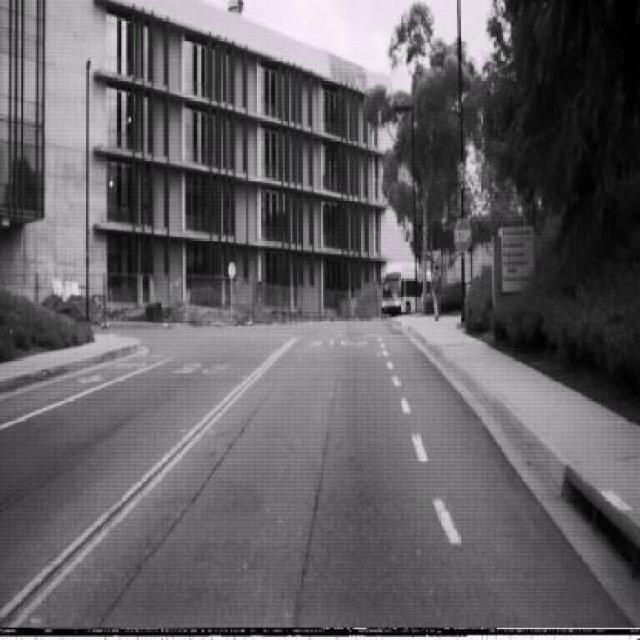stop: (454, 217, 472, 254)
